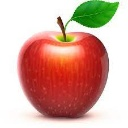apple: (17, 18, 110, 119)
